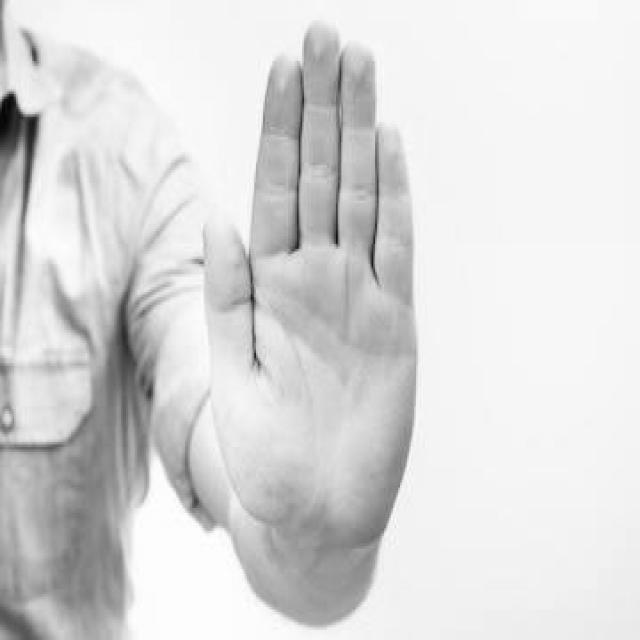stop: (197, 11, 424, 554)
